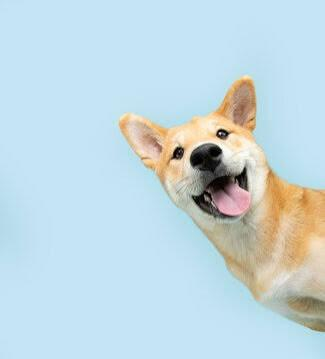adult_dog: (114, 71, 325, 336)
